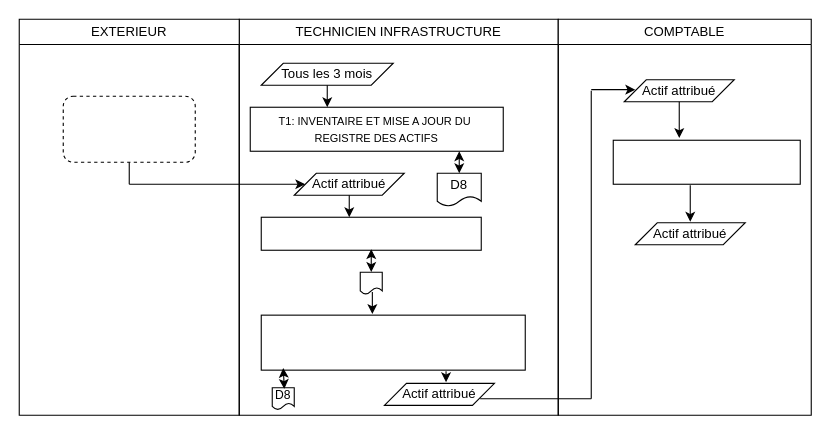
The diagram is 831 pixels wide and 435 high, and some of its shapes have lost their labels. Here are the shapes that lost their labels. From the top down, the centre of each, then its label:
(x=128, y=128): EMPLOYE
(x=706, y=161): T4: EMMAGASINAGE DE L'ACTIF INFORMATIQUE
(x=370, y=233): T2: MISE A JOUR DU REGISTRE D'ATTRIBUTION
(x=370, y=282): D5
(x=392, y=342): T3: VERIFICATION DE L'ETAT DE L'ACTIF ET MISE A JOUR DU REGISTRE DE MAINTENANCE
